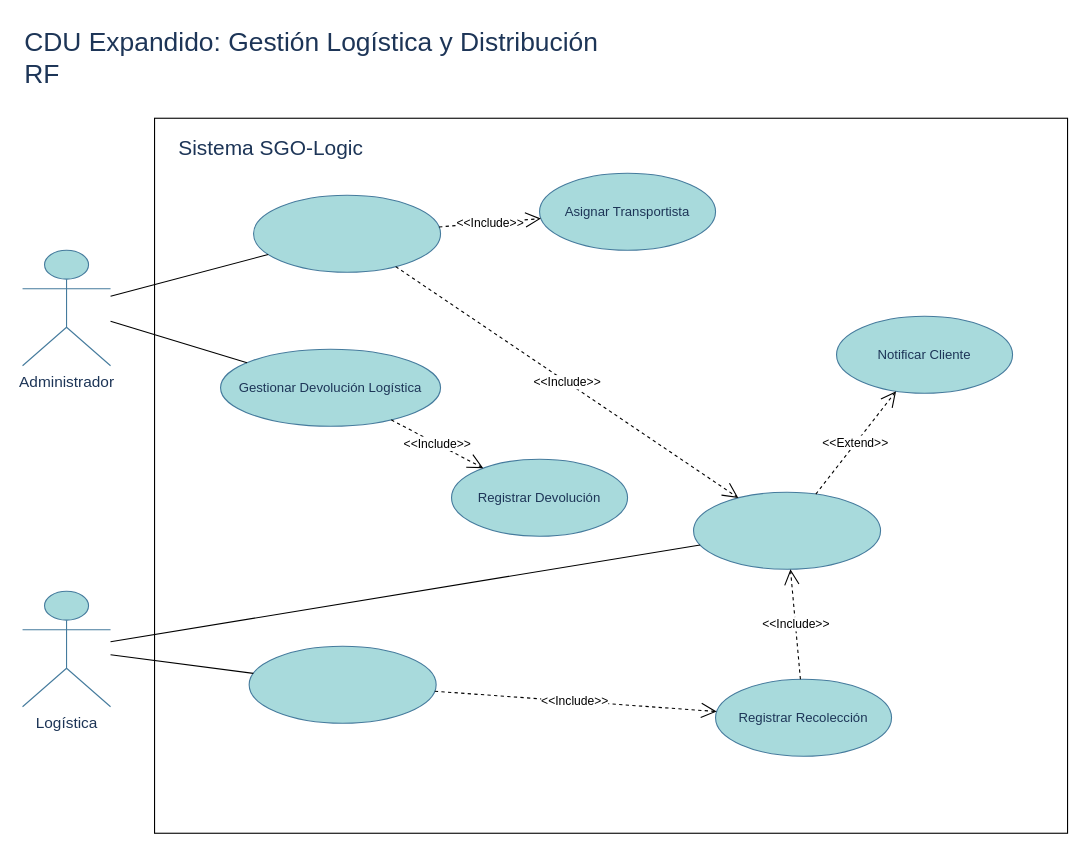
Image size: 1087x853. Some labels were removed from this diagram. The shapes that lost their labels are listed below. From the top down, each one's centre as x and y in pixels, then its label:
At pixel 346 233: "Generar Orden de Envío".
At pixel 786 530: "Actualizar Estado de Envío".
At pixel 342 684: "Coordinar Recolección".
